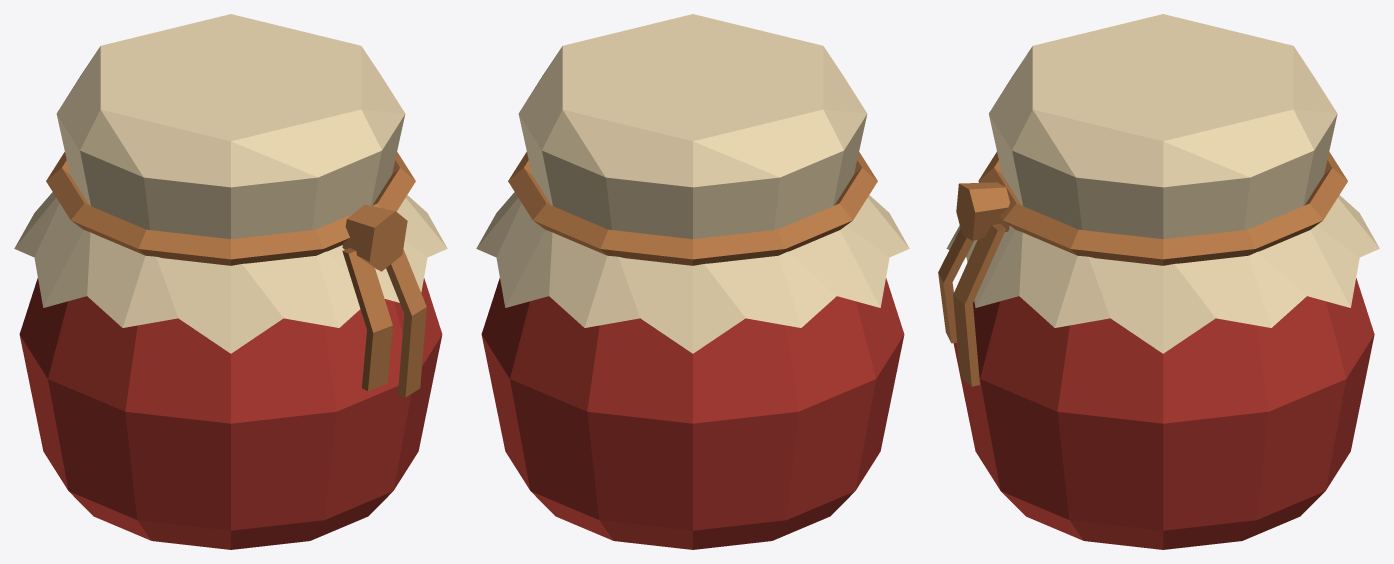
File: FMS_Workshop_PRD_07.fbx
3 views of the same model, side by side, from view 1: azimuth 30°, elevation 25°; view 2: azimuth 150°, elevation 25°; view 3: azimuth 270°, elevation 25° (orthographic).
Visible parts, largest first — view 1: FMS_Workshop_PRD_07_Body; view 2: FMS_Workshop_PRD_07_Body; view 3: FMS_Workshop_PRD_07_Body.
Boxes of the visible parts, x1=… form: FMS_Workshop_PRD_07_Body: x1=14, y1=14, x2=447, y2=549; FMS_Workshop_PRD_07_Body: x1=476, y1=14, x2=909, y2=549; FMS_Workshop_PRD_07_Body: x1=938, y1=14, x2=1379, y2=549.
Size of the model in its own units: 0.164 by 0.1692 by 0.1672.
Materials: 1 (1 with a texture image).
